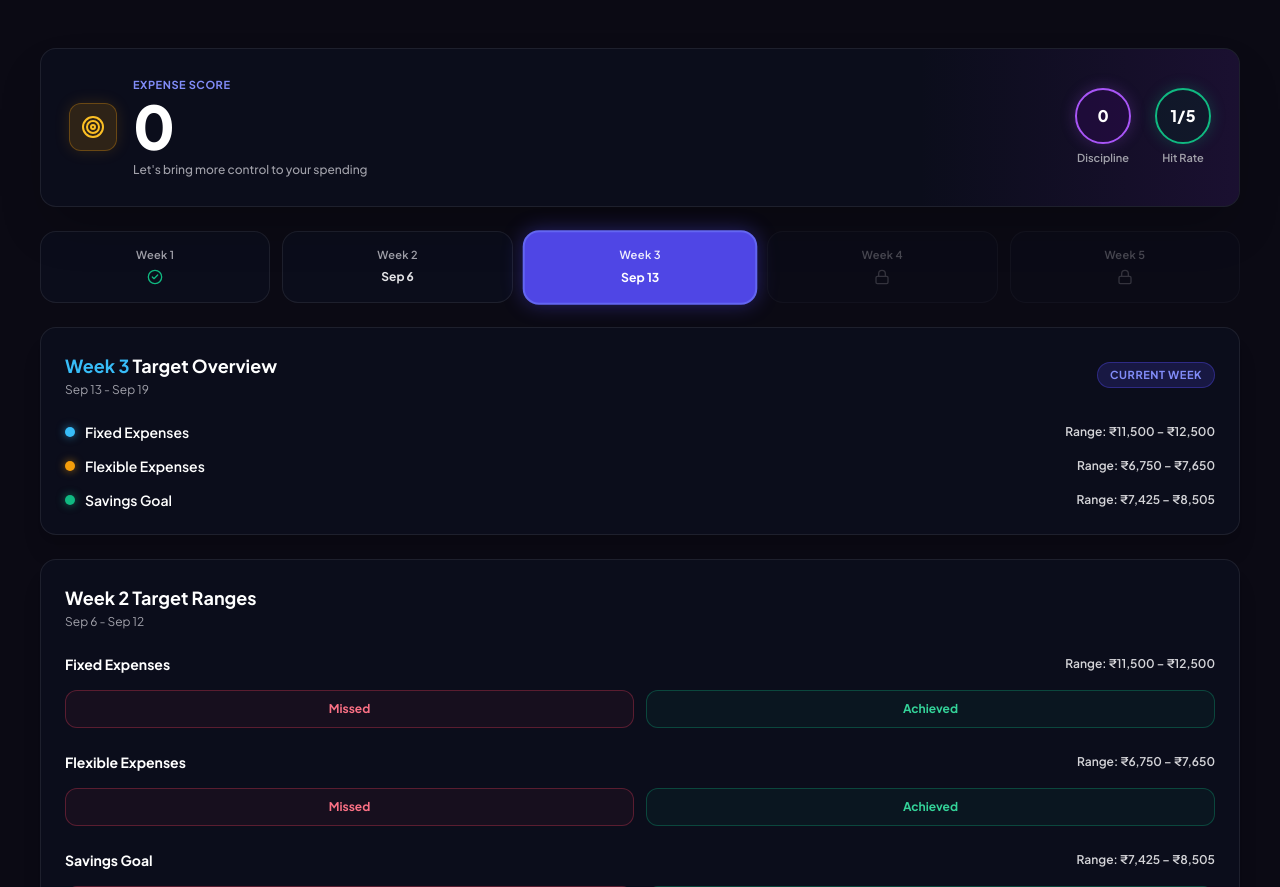
Task 9: Weekly Expense Predictor Flutter Parity & Lock Behavior › applies app lock rule: weekIndex > 3 unsubmitted is locked; past week <= 3 is selectable and editable
Check: the heading "Week 2 Target Ranges" is shown, box [65,584,257,612]
Check: the icon with test id "week-tab-lock-4" is shown, box [874,269,890,285]
What coordinates should you click on to do the following:
click the button with test id "week-tab-2"
I would click on:
 (398, 267)
Its box is [282,230,513,303].
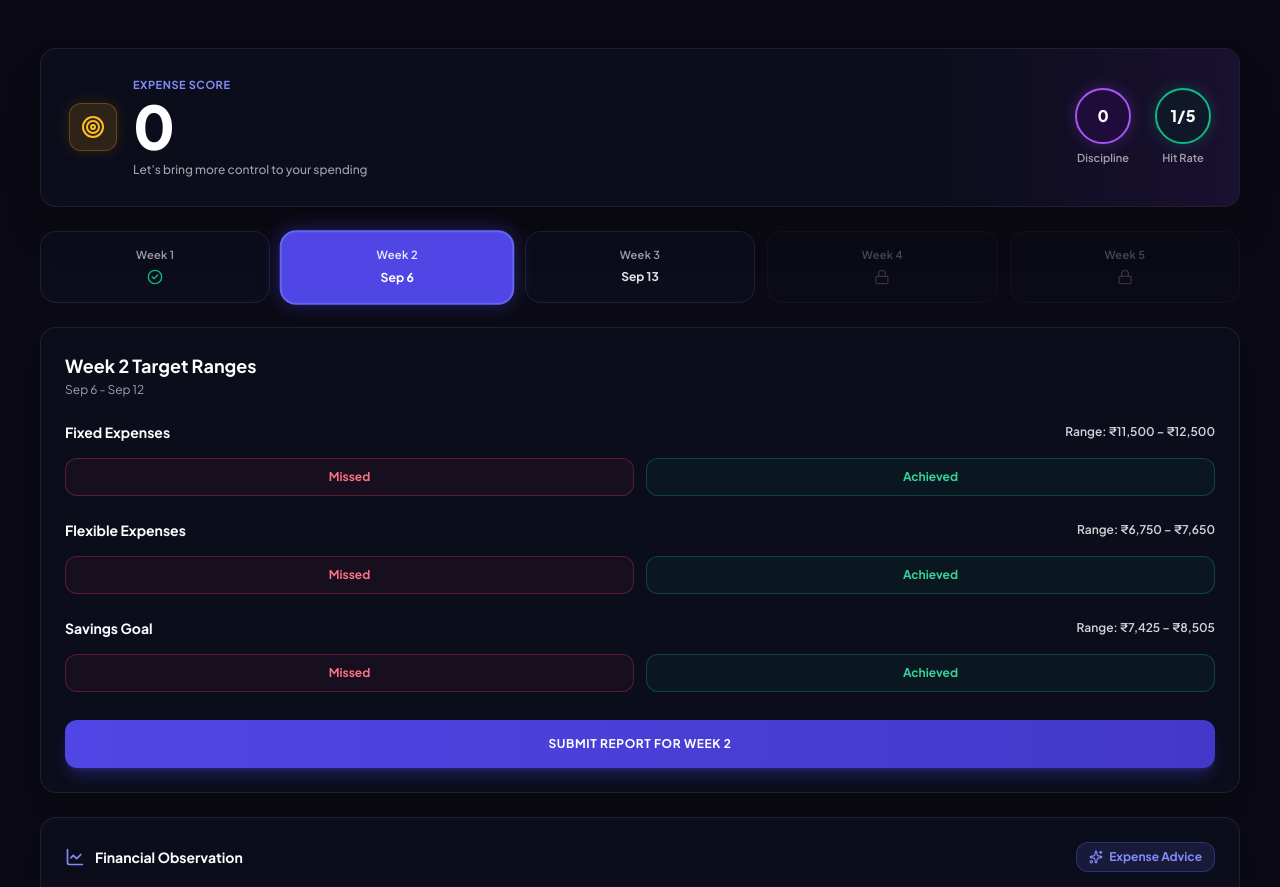
Check: the heading "Week 2 Target Ranges" is shown, box [65,352,257,380]
Check: the element with test id "current-week-overview-card" is gone
